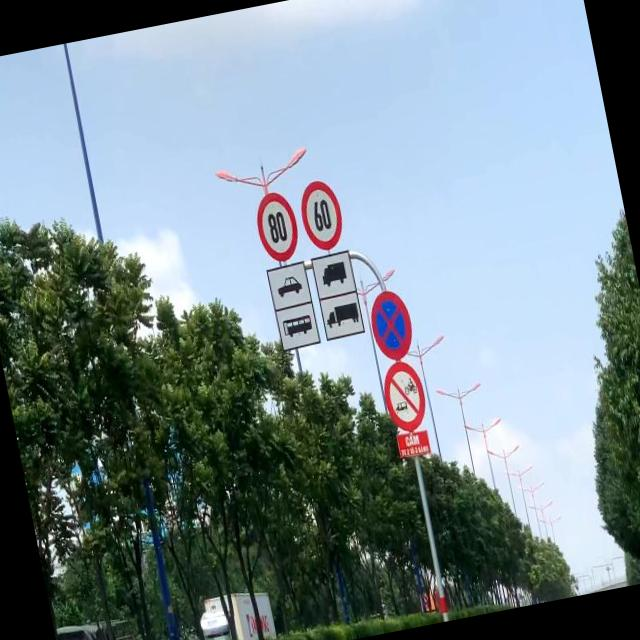P-104: (377, 358, 430, 434)
P-127: (250, 188, 302, 262), (296, 178, 348, 250)
P-130: (365, 286, 418, 362)
